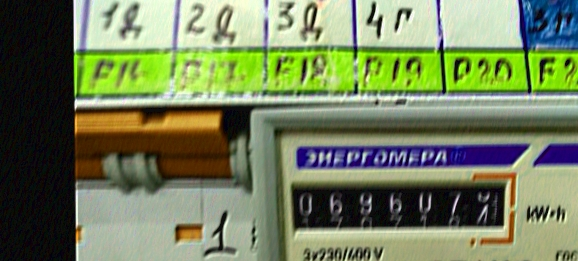0: (295, 191, 312, 216), (415, 188, 430, 213)
4: (472, 203, 489, 227)
6: (325, 191, 342, 215), (385, 190, 402, 214)
7: (445, 190, 460, 216)
9: (355, 191, 371, 215)
screen: (276, 167, 519, 244)
